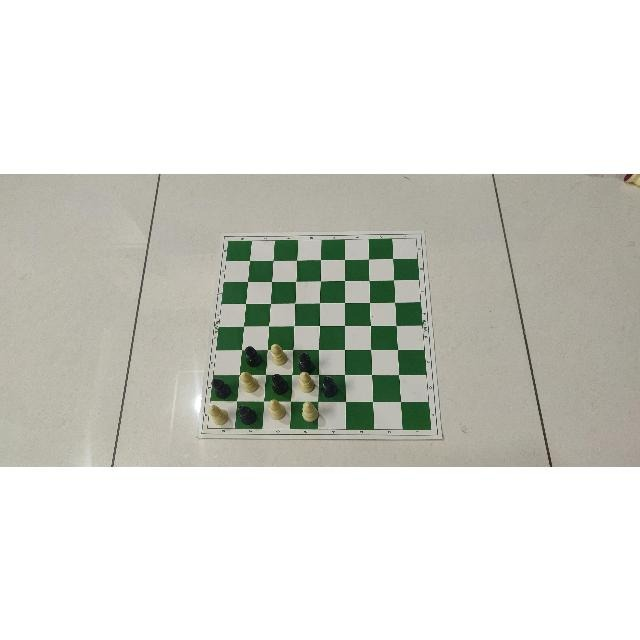black-bishop: (209, 374, 233, 397), (271, 371, 289, 394), (321, 375, 339, 398), (238, 404, 258, 424), (244, 346, 262, 366), (297, 350, 314, 371)
white-bishop: (239, 369, 259, 392), (208, 403, 228, 425), (270, 343, 288, 365), (267, 399, 286, 419), (298, 371, 315, 393), (302, 400, 319, 421)
